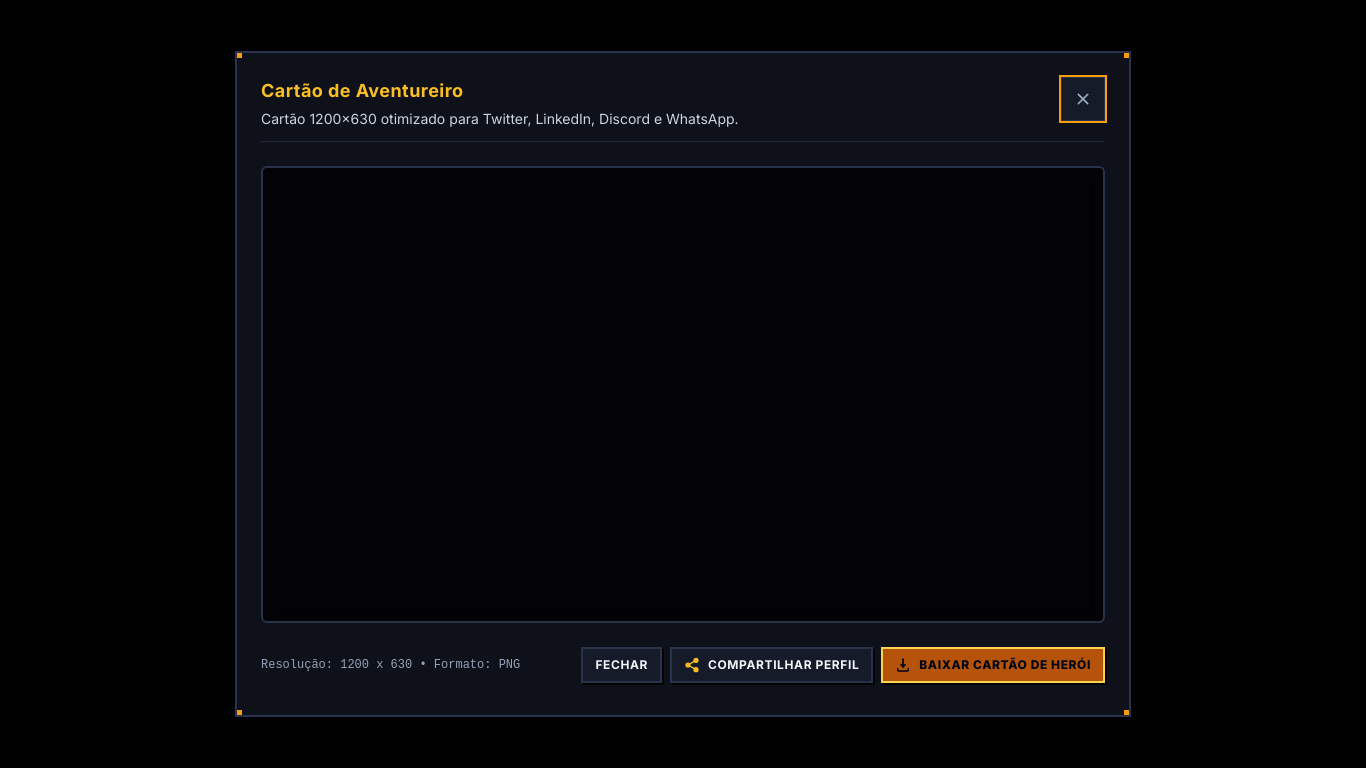
it: ShareCardModal: share profile › shows the link to copy by hand when neither share nor clipboard works, without breaking the UI
The width and height of the screenshot is (1366, 768).
Click the button "Compartilhar perfil". click: (772, 665)
box: [670,647,873,683]
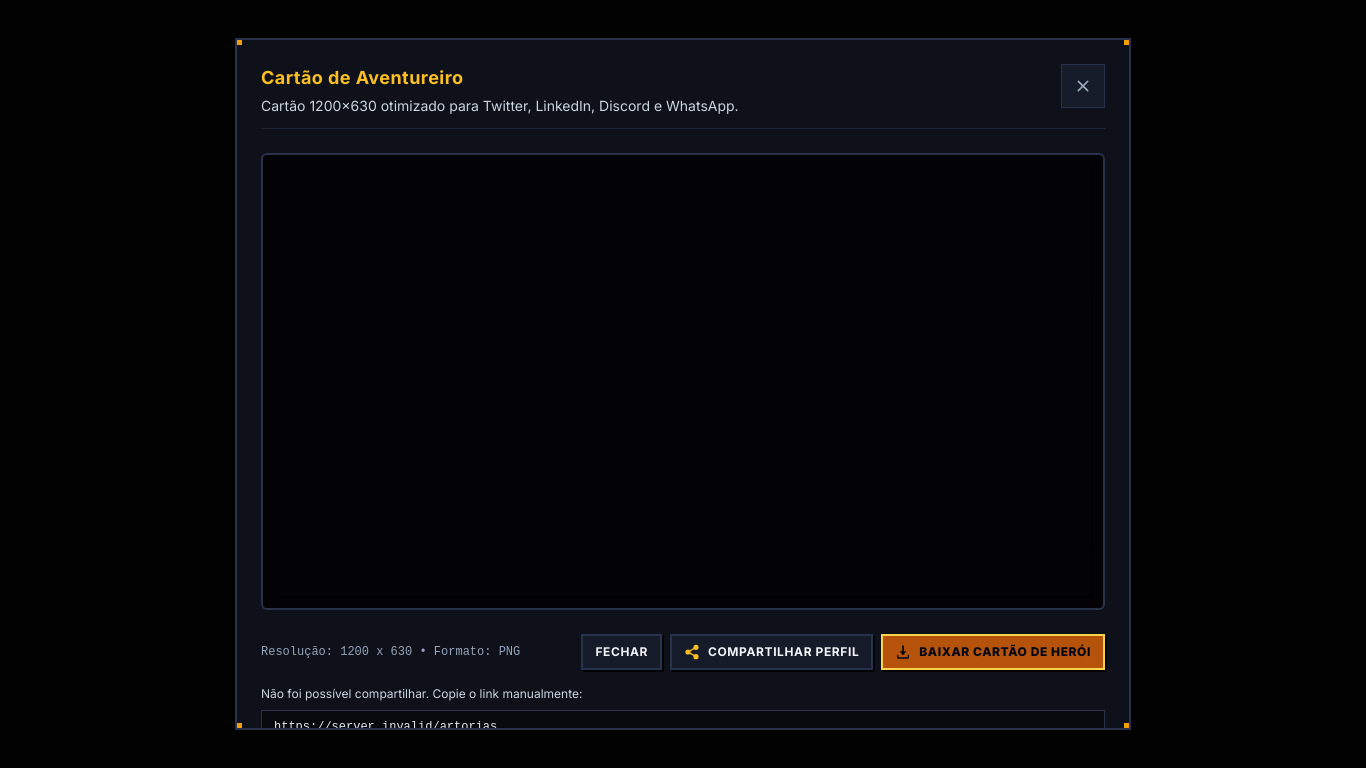
Expected: the button "Baixar Cartão de Herói" is enabled, [881,634,1105,670]
Expected: the message shows "Não foi possível compartilhar", [261,686,582,701]
